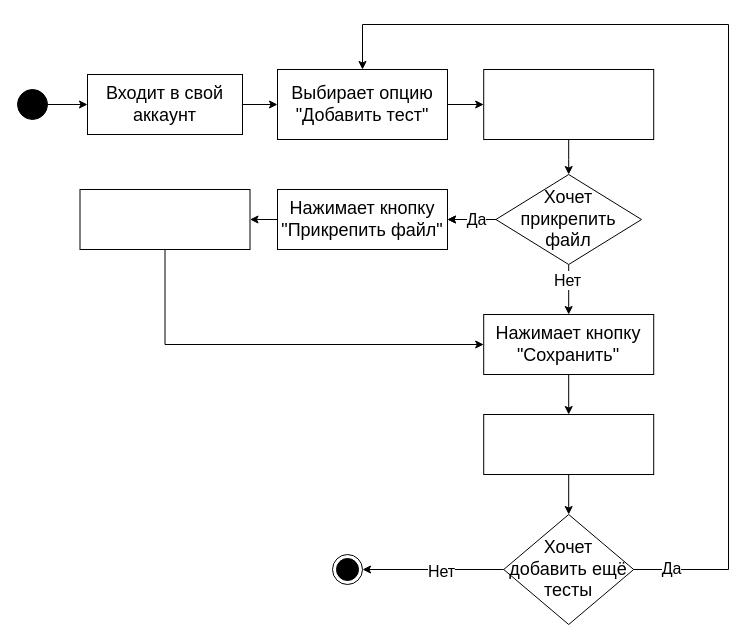
Some shapes in this 754 by 642 pixel diagram are drawn without their labels. Each missing label, with the centre of its shape:
Вводит данные теста: the point at 568,104
Выбирает файл из своего компьютера: the point at 164,219
Тест успешно сохранён: the point at 568,444
